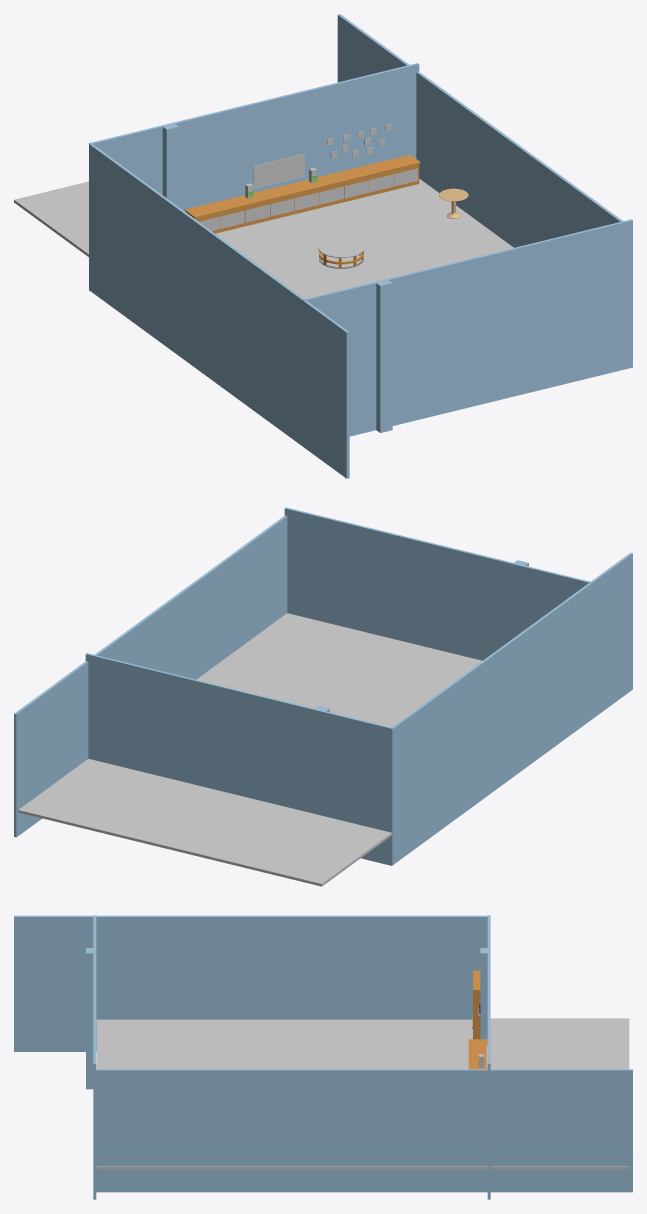
Rendered from house_colored.dae.
3 views of the same model, one above another, from view 1: azimuth 30°, elevation 25°; view 2: azimuth 150°, elevation 25°; view 3: azimuth 270°, elevation 25° (orthographic). The views are drawn at different scales.
Visible parts, largest first — view 1: Cube_001, Cube_001_002, Cube_002_001, Cube_003, Cube_001_001, Cube_002, Cube_005, Plane, Circle_002; view 2: Cube_003, Cube_001_002, Cube_001, Cube_001_001, Cube_002, Cube_002_001; view 3: Cube_001_001, Cube_003, Cube_002_001, Cube_002, Cube_001, Cube_001_002, Cube_041, Cube_005.
Part boxes in pixels (bbox=[...]): Cube_001: bbox=[302, 219, 632, 436]; Cube_001_002: bbox=[89, 63, 419, 211]; Cube_002_001: bbox=[210, 232, 349, 478]; Cube_003: bbox=[14, 179, 513, 298]; Cube_001_001: bbox=[337, 14, 622, 247]; Cube_002: bbox=[89, 144, 225, 378]; Cube_005: bbox=[184, 154, 420, 233]; Plane: bbox=[253, 153, 304, 188]; Circle_002: bbox=[318, 237, 364, 257]; Cube_003: bbox=[18, 613, 482, 886]; Cube_001_002: bbox=[85, 653, 392, 865]; Cube_001: bbox=[284, 507, 592, 660]; Cube_001_001: bbox=[14, 515, 287, 837]; Cube_002: bbox=[392, 635, 520, 865]; Cube_002_001: bbox=[503, 552, 632, 771]; Cube_001_001: bbox=[96, 1069, 632, 1192]; Cube_003: bbox=[96, 1018, 629, 1169]; Cube_002_001: bbox=[14, 915, 266, 1051]; Cube_002: bbox=[237, 915, 487, 1019]; Cube_001: bbox=[86, 915, 96, 1199]; Cube_001_002: bbox=[480, 915, 490, 1199]; Cube_041: bbox=[472, 970, 480, 1039]; Cube_005: bbox=[468, 1039, 487, 1069].
Bounding box in the file's own units: 6.75 × 11.91 × 2.89.
